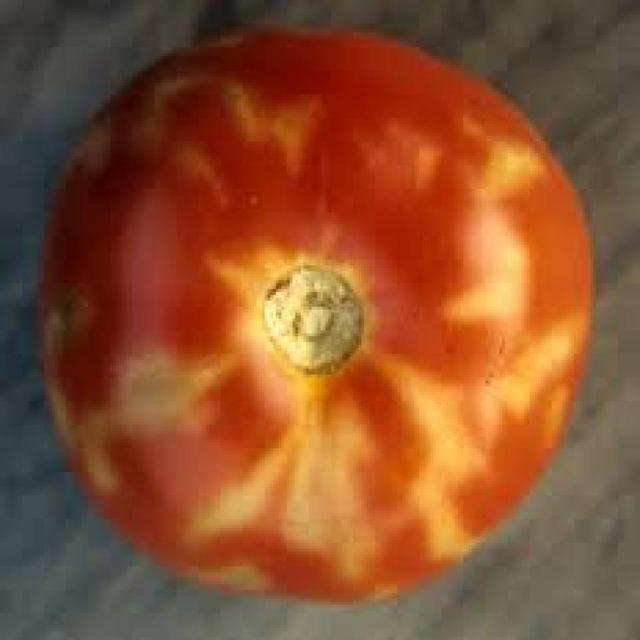Spotted wilt Virus Fruit: (26, 23, 51, 205)
